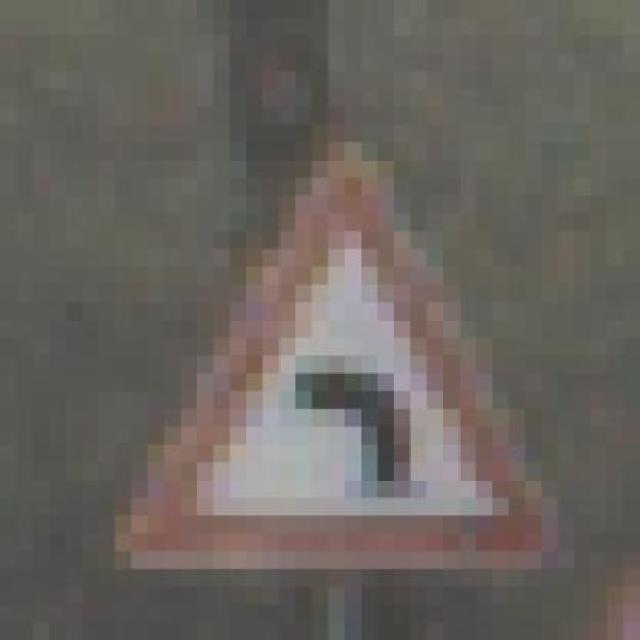Dangerous Left Curve Ahead: (98, 106, 591, 569)
